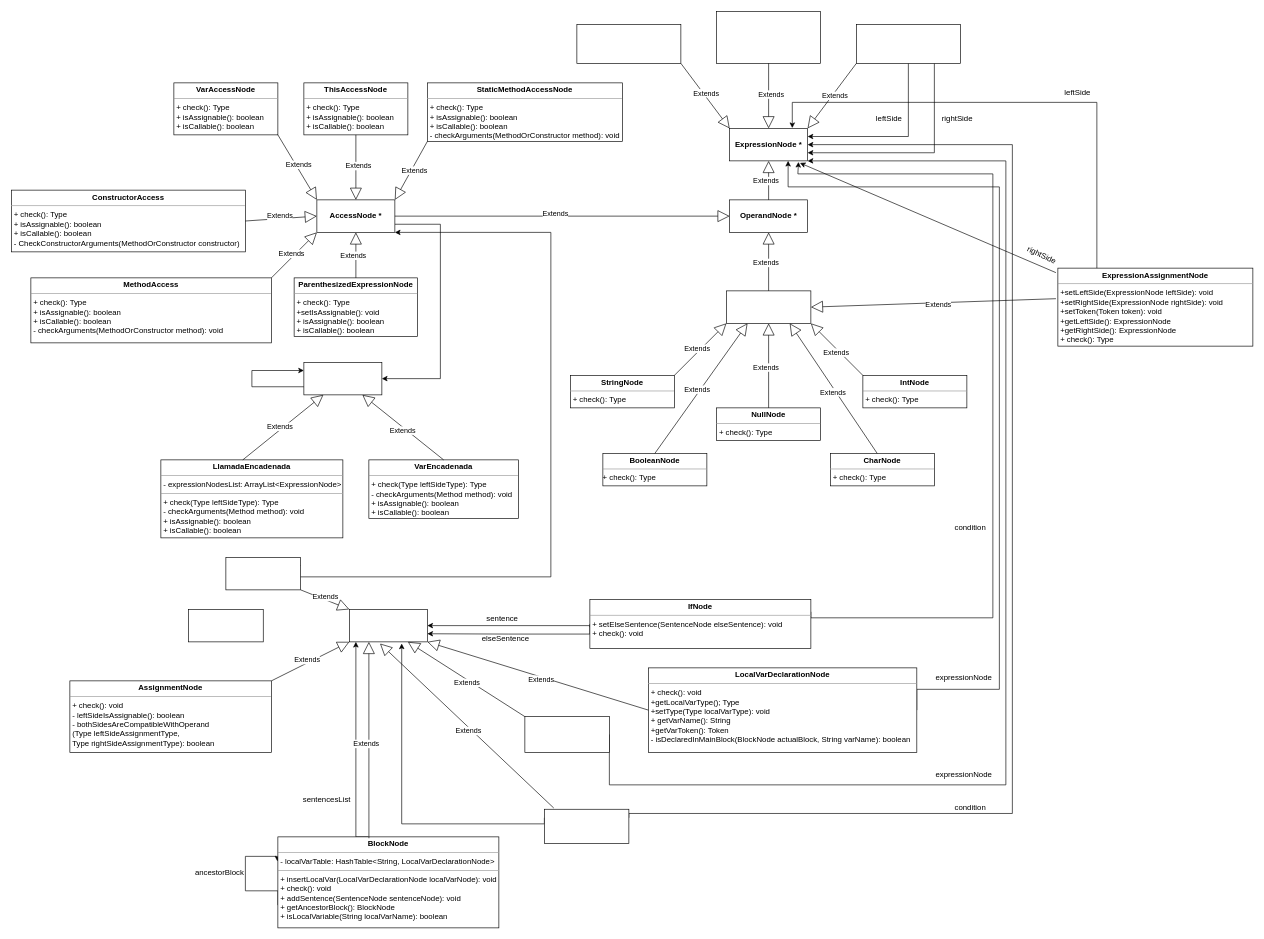
Some shapes in this 1264 by 939 pixel diagram are drawn without their labels. The shapes that lost their labels are listed below. From the top down, each one's box as (x1, y1, x2, y2) in pixels, then its label:
(576, 24, 681, 63): EmptyExpressionNode + check(): Type
(716, 11, 821, 63): UnaryExpressionNode + token: Token + check(): Type
(856, 24, 960, 63): BinaryExpressionNode + check(): Type
(726, 290, 811, 323): LiteralOperandNode *
(303, 362, 382, 395): Encadenado *
(225, 557, 301, 590): CallNode + check(): void
(188, 609, 263, 642): EmptySentence + check(): void
(349, 609, 427, 642): SentenceNode *
(524, 716, 609, 752): ReturnNode + check(): void
(544, 809, 629, 843): WhileNode + check(): void
